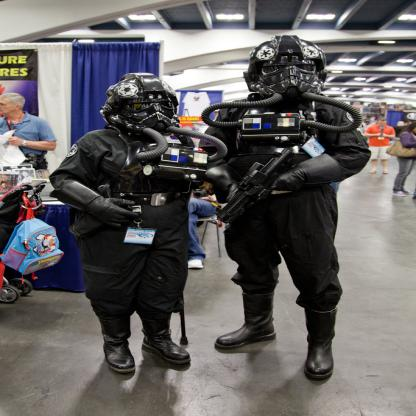Helmet: (244, 33, 330, 99), (96, 74, 182, 134)
